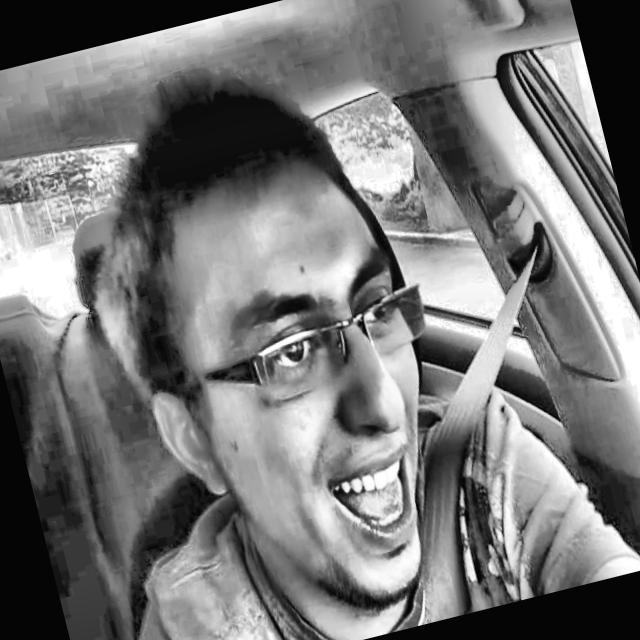open_eyes: (248, 327, 330, 382), (351, 285, 410, 337)
open_mouth: (315, 436, 432, 563)
